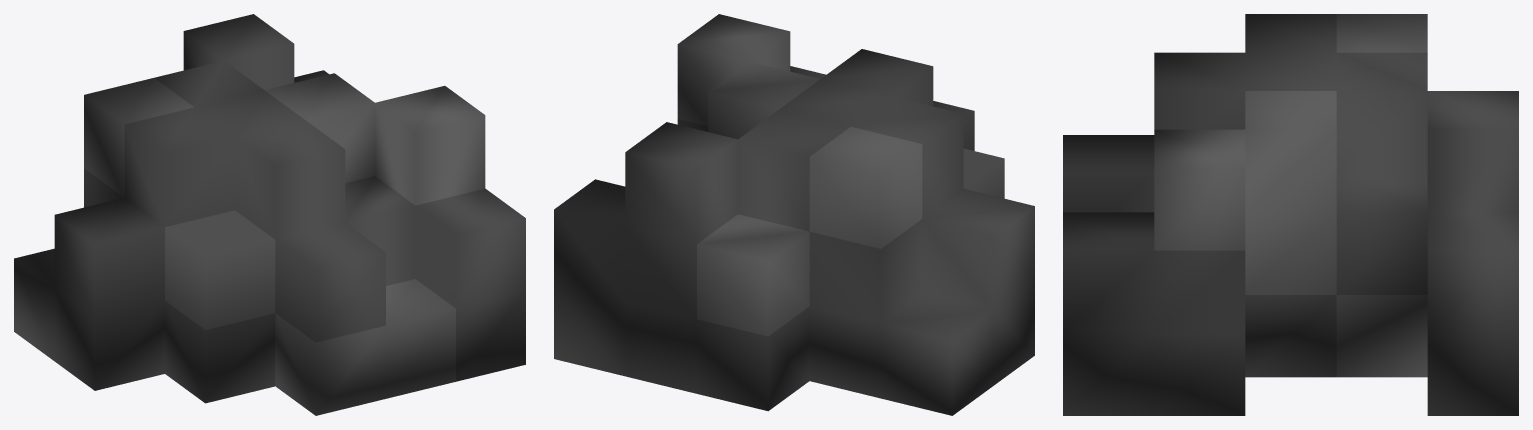
Rendered from RockResource.fbx.
3 views of the same model, side by side, from view 1: azimuth 30°, elevation 25°; view 2: azimuth 150°, elevation 25°; view 3: azimuth 270°, elevation 25° (orthographic). The views are drawn at different scales.
Parts seen in each view (by area): view 1: RockResource; view 2: RockResource; view 3: RockResource.
Boxes of the visible parts, box(x1,y1,x2,y2) form: RockResource: box(14, 14, 525, 415); RockResource: box(554, 14, 1034, 415); RockResource: box(1063, 14, 1518, 415).
Bounding box in the file's own units: 0.5 × 0.3 × 0.5.
